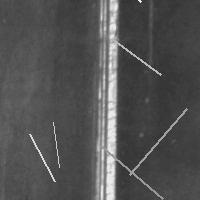scratches: (93, 1, 120, 199), (125, 103, 192, 179), (95, 140, 167, 200), (107, 34, 166, 80), (24, 129, 59, 186), (48, 117, 64, 172), (86, 0, 146, 7)
